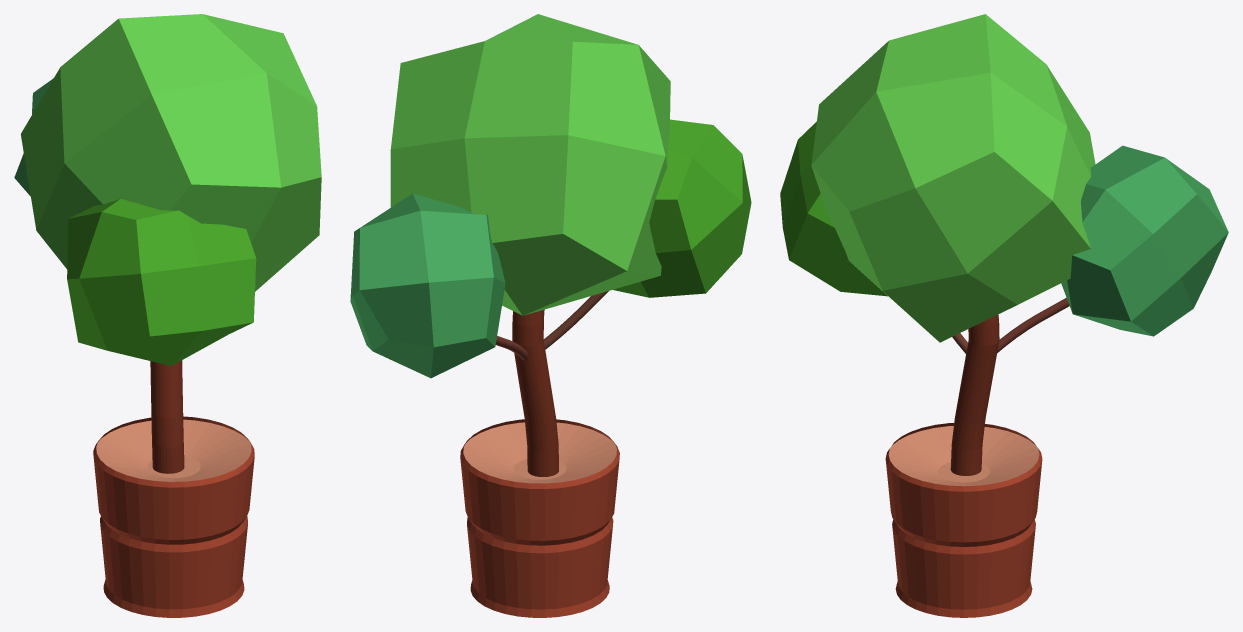
File: plant2.fbx
The picture shows the model from 3 angles, left to right: view 1: azimuth 30°, elevation 25°; view 2: azimuth 150°, elevation 25°; view 3: azimuth 270°, elevation 25°; orthographic projection. The views are drawn at different scales.
Parts seen in each view (by area): view 1: Cube, Cylinder.003, Cube.001, Cylinder, Cube.002; view 2: Cube, Cylinder.003, Cube.002, Cube.001, Cylinder, Cylinder.001; view 3: Cube, Cylinder.003, Cube.002, Cube.001, Cylinder, Cylinder.002.
Part boxes in pixels (x1,y1,x2,y2): Cube: (20,14,321,291); Cylinder.003: (93,416,254,617); Cube.001: (67,199,256,365); Cylinder: (150,360,184,473); Cube.002: (14,78,53,196); Cube: (390,14,670,315); Cylinder.003: (460,419,619,617); Cube.002: (350,193,505,378); Cube.001: (612,119,751,297); Cylinder: (512,309,558,476); Cylinder.001: (543,291,608,349); Cube: (811,14,1095,342); Cylinder.003: (885,423,1042,617); Cube.002: (1061,145,1228,336); Cube.001: (780,121,887,296); Cylinder: (950,315,999,475); Cylinder.002: (997,298,1069,353).
Size of the model in its own units: 212 by 412 by 302.
